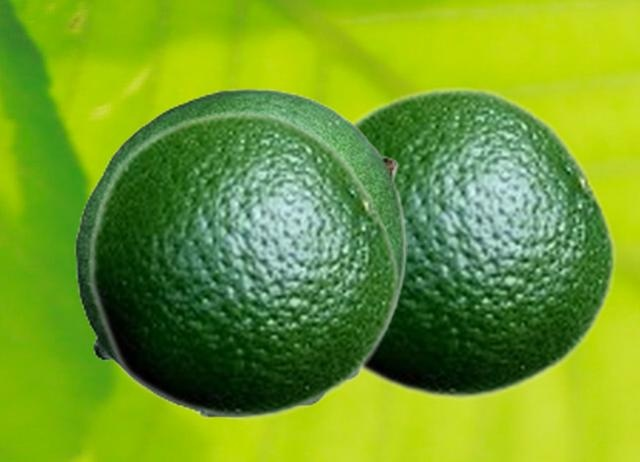calamansi: (74, 87, 406, 417), (86, 109, 400, 421), (350, 85, 617, 401)
